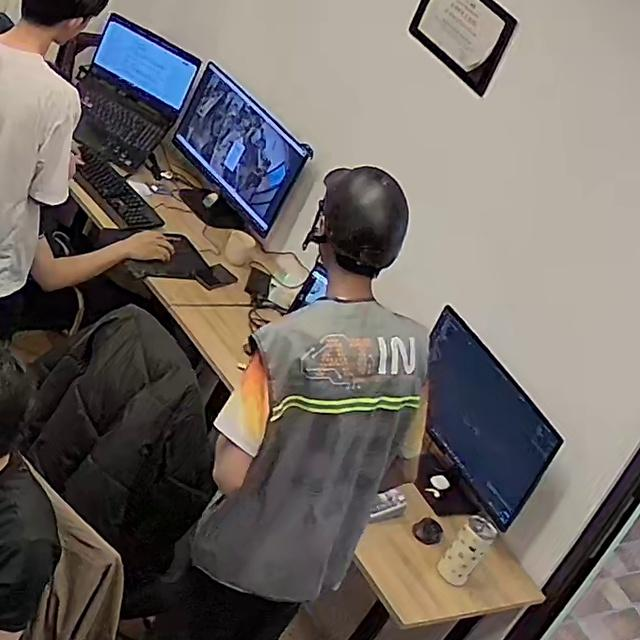helmet: (314, 166, 409, 271)
vest: (193, 300, 428, 606)
